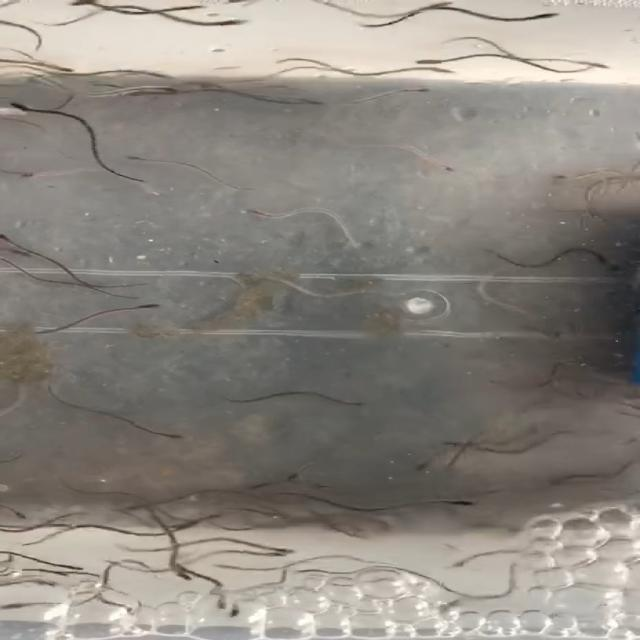active_glass_eel: (38, 58, 85, 80), (215, 10, 257, 33), (80, 82, 120, 105), (154, 566, 202, 585), (428, 156, 467, 179), (0, 223, 34, 249), (388, 82, 436, 100), (148, 424, 194, 442), (188, 257, 238, 273), (211, 598, 248, 619), (419, 64, 456, 84), (530, 8, 576, 24), (489, 298, 524, 319), (244, 202, 280, 221), (0, 596, 42, 612), (580, 55, 613, 74), (284, 462, 315, 482), (332, 392, 366, 410), (497, 585, 541, 598), (122, 297, 156, 313), (441, 557, 475, 572), (253, 547, 284, 563), (0, 507, 32, 521), (121, 152, 151, 166), (173, 519, 206, 531), (292, 594, 325, 606), (56, 560, 87, 572), (416, 50, 442, 64), (16, 161, 37, 177), (602, 230, 622, 246), (144, 82, 174, 92), (442, 499, 469, 510), (10, 101, 35, 112)
